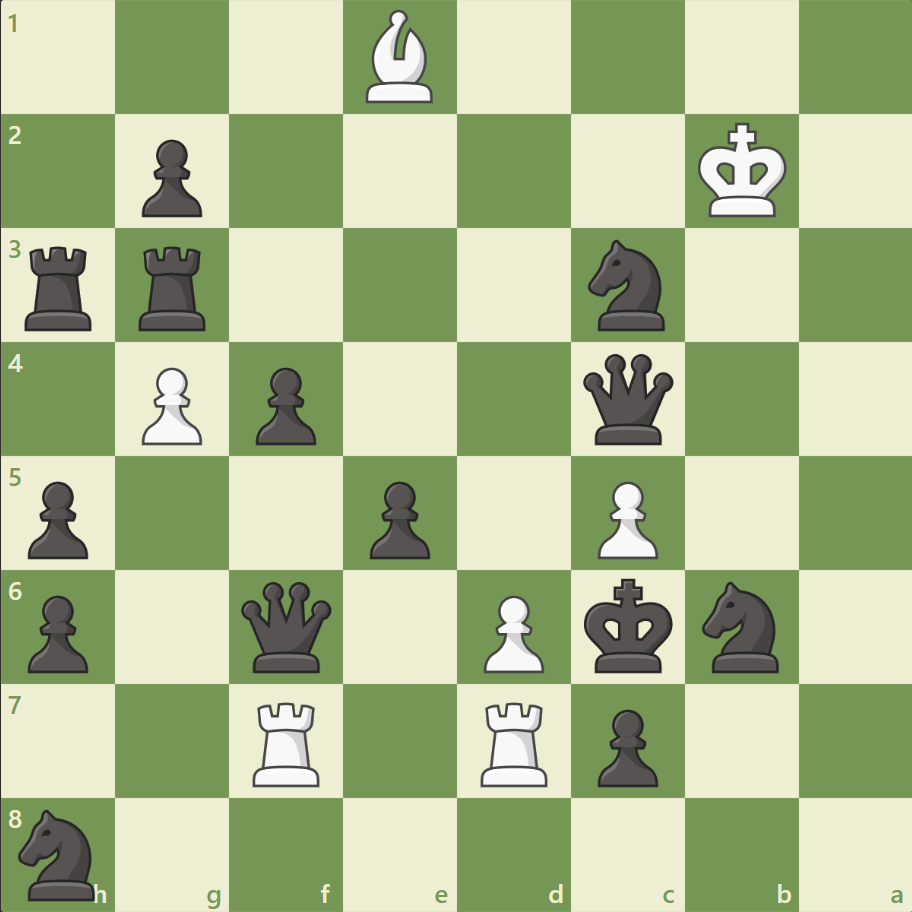B: (358, 6, 442, 109)
K: (692, 117, 792, 225)
P: (474, 586, 549, 677), (133, 359, 208, 450), (588, 473, 662, 564)
R: (473, 693, 556, 790), (246, 693, 329, 790)
k: (579, 571, 679, 679)
n: (579, 234, 676, 337), (11, 802, 108, 904), (692, 575, 789, 677)
p: (20, 586, 95, 677), (20, 473, 95, 564), (247, 359, 322, 450), (133, 132, 208, 223), (588, 700, 662, 791), (361, 473, 435, 564)
q: (237, 576, 336, 676), (578, 349, 677, 449)
r: (19, 239, 102, 336), (133, 239, 215, 336)
